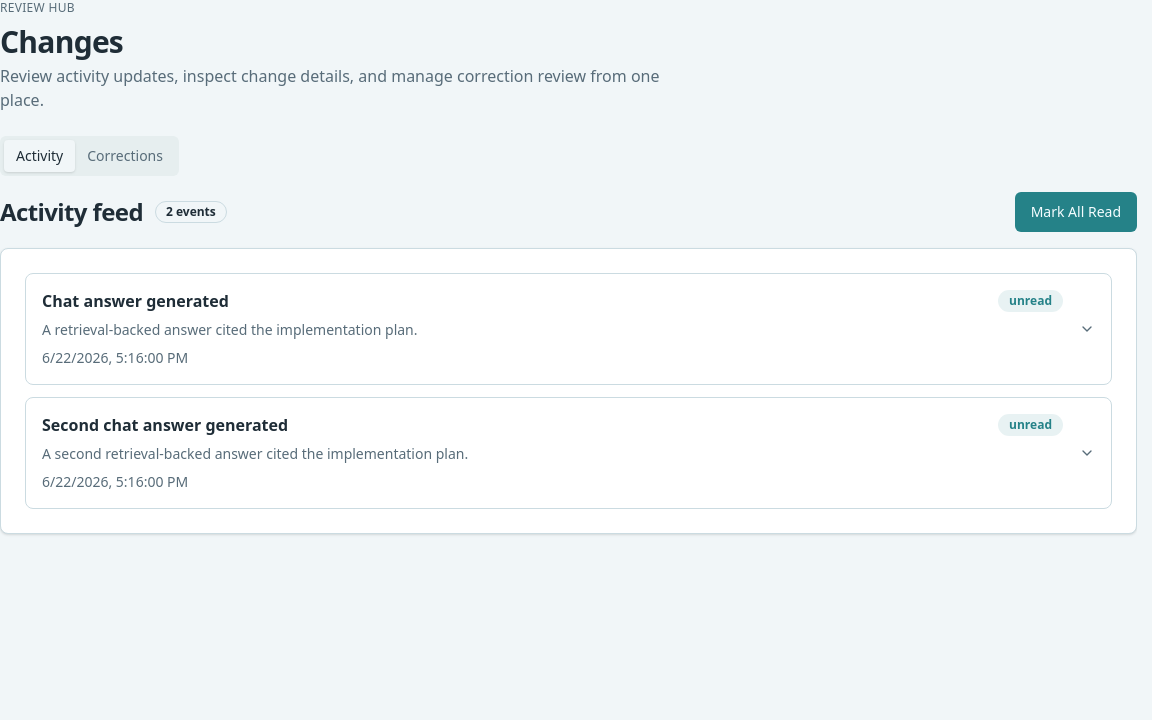
Test: ChangesPage › marks all visible unread changes as read and updates loaded detail state
The width and height of the screenshot is (1152, 720).
Expected: the button "Second chat answer generated" is shown, [26,398,1111,508]
Click the button "Chat answer generated": (135, 301) [26,274,1111,384]
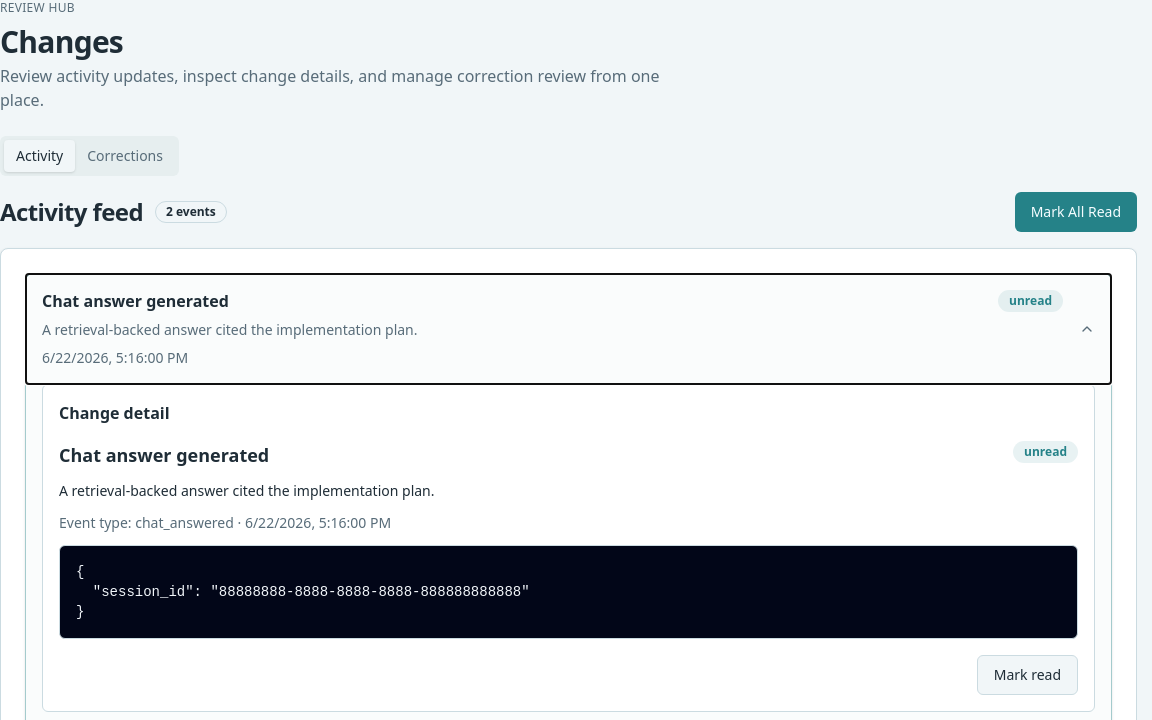
Expected: the button "Mark read" is shown, [977,655,1078,695]
Click the button "Mark All Read": (1076, 212) [1015,192,1137,232]
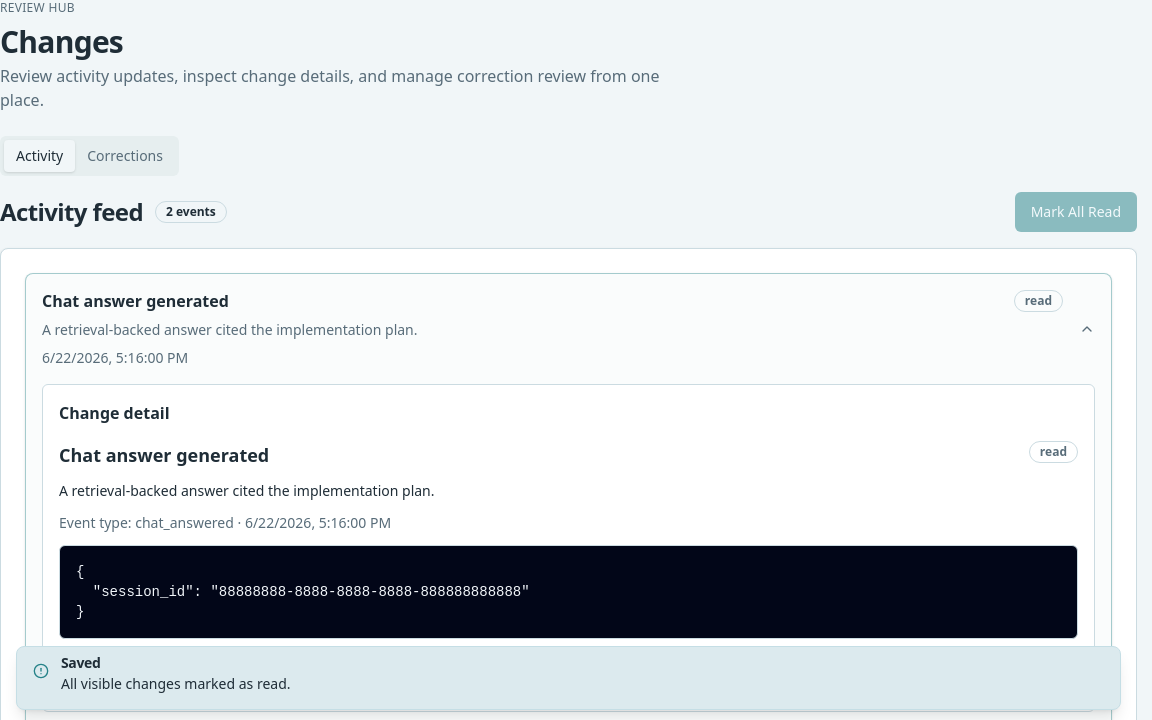
Expected: the message with test id "changes-action-banner" shows "Saved", [61,653,100,672]
Expected: the message with test id "changes-action-banner" shows "All visible changes marked as read.", [61,674,290,693]
Expected: the button "Mark All Read" is disabled, [1015,192,1137,232]
